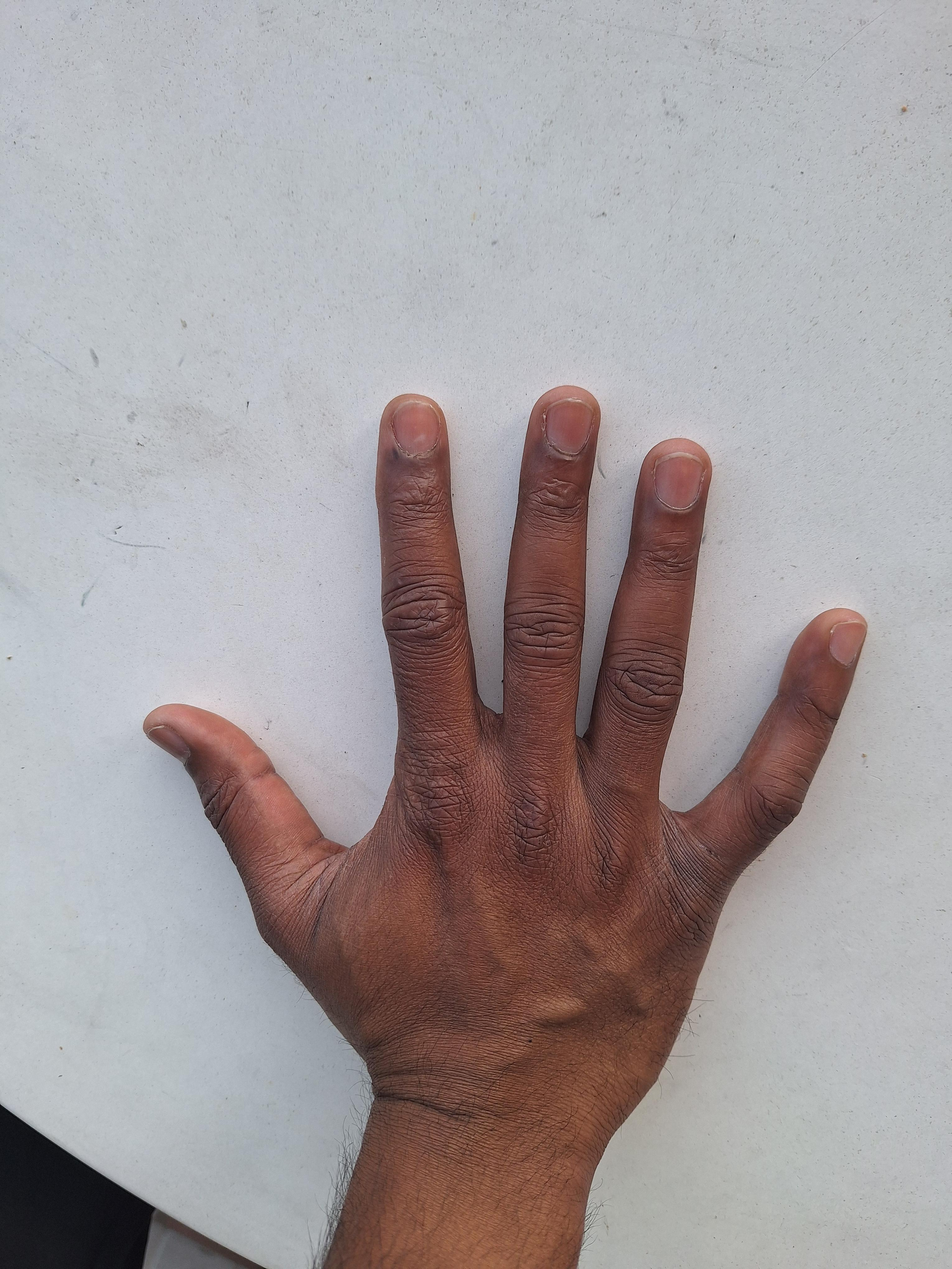Fingernail: (655, 452, 704, 509), (545, 398, 594, 453), (391, 402, 440, 456), (147, 725, 189, 765), (830, 621, 867, 665)
